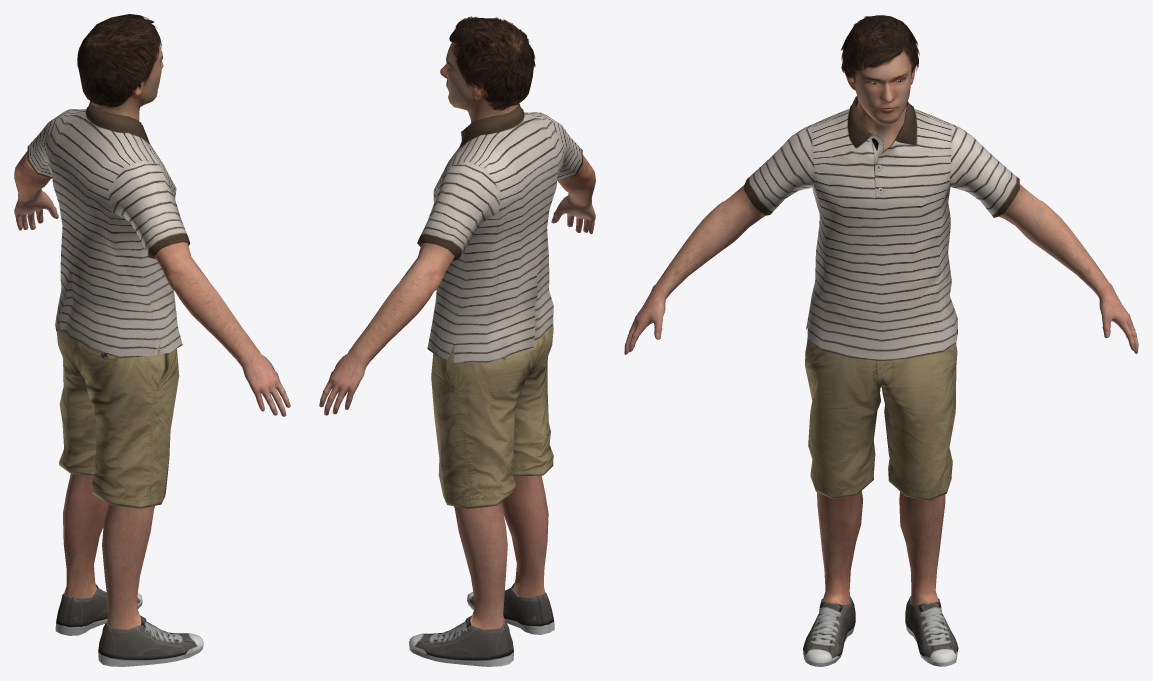
The model's file is standing-gallery-visitor.glb.
The picture shows the model from 3 angles, left to right: view 1: azimuth 30°, elevation 25°; view 2: azimuth 150°, elevation 25°; view 3: azimuth 270°, elevation 25°; orthographic projection.
Parts seen in each view (by area): view 1: standing-gallery-visitor; view 2: standing-gallery-visitor; view 3: standing-gallery-visitor.
Part boxes in pixels (x1=…): standing-gallery-visitor: x1=14, y1=14, x2=290, y2=666; standing-gallery-visitor: x1=319, y1=16, x2=595, y2=666; standing-gallery-visitor: x1=624, y1=15, x2=1138, y2=666.
Size of the model in its own units: 32.44 by 182 by 135.
3 materials, 3 textured.
